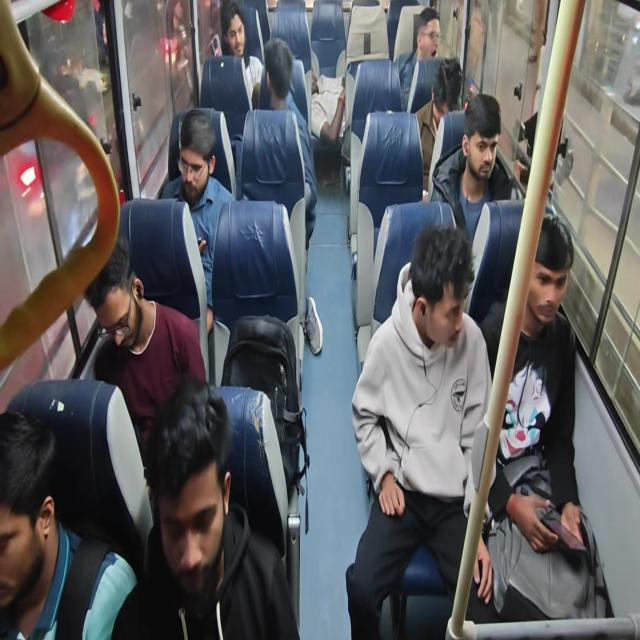person: (346, 222, 494, 638), (469, 212, 600, 622), (113, 375, 301, 639), (0, 0, 120, 372), (0, 409, 139, 639), (83, 232, 207, 460), (160, 108, 235, 334), (257, 37, 318, 249), (429, 92, 507, 247), (414, 56, 462, 180), (395, 7, 442, 111), (219, 0, 263, 109), (305, 67, 346, 145)
